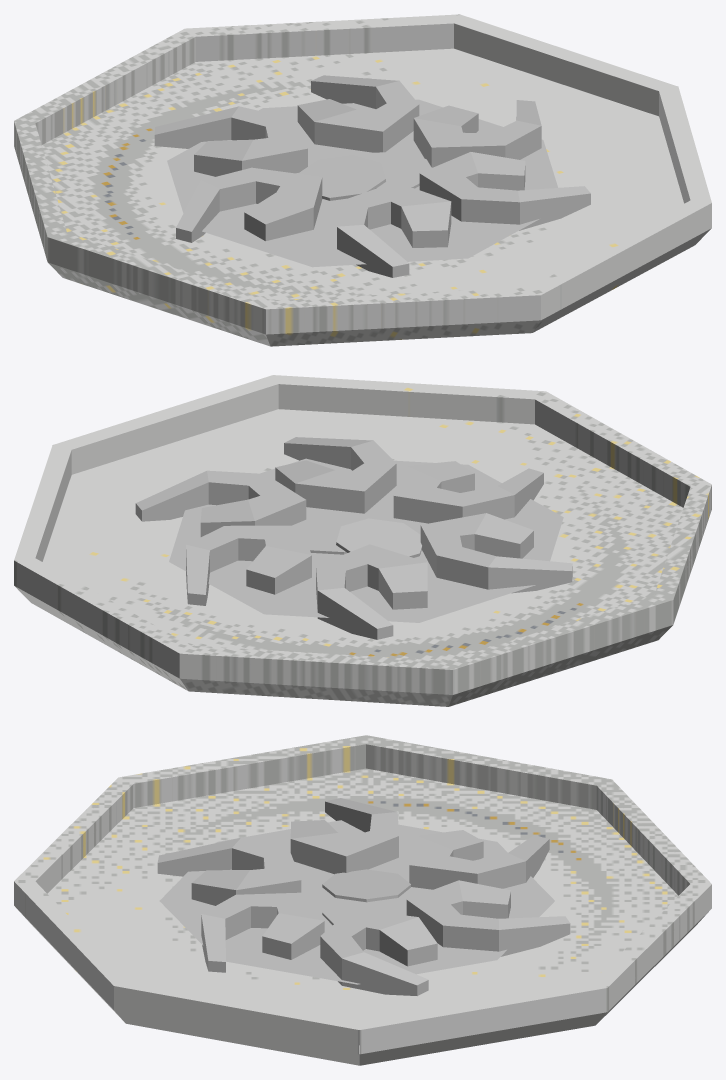
Rendered from SM_ShrimpMarinara.fbx.
3 renders of one model, top to bottom at view 1: azimuth 30°, elevation 25°; view 2: azimuth 150°, elevation 25°; view 3: azimuth 270°, elevation 25°, orthographic. The views are drawn at different scales.
Parts seen in each view (by area): view 1: Plate, Circle, Cube.016, Cube.017, Cube.014, Cube.018, Cube.019, Cube.015, Circle.002, Circle.001; view 2: Plate, Circle, Cube.014, Cube.017, Cube.015, Cube.016, Cube.018, Cube.019, Circle.002, Circle.001; view 3: Plate, Circle, Cube.015, Cube.018, Cube.016, Cube.019, Cube.014, Cube.017, Circle.002, Circle.001.
Part boxes in pixels (left/top/right/bottom): Plate: left=14, top=14, right=711, bottom=346; Circle: left=167, top=99, right=558, bottom=267; Cube.016: left=419, top=152, right=590, bottom=230; Cube.017: left=154, top=106, right=307, bottom=176; Cube.014: left=176, top=167, right=322, bottom=242; Cube.018: left=297, top=75, right=419, bottom=152; Cube.019: left=337, top=182, right=451, bottom=277; Cube.015: left=413, top=100, right=541, bottom=167; Circle.002: left=298, top=155, right=385, bottom=200; Circle.001: left=360, top=151, right=432, bottom=188; Plate: left=14, top=375, right=711, bottom=706; Circle: left=169, top=458, right=563, bottom=622; Cube.014: left=420, top=513, right=572, bottom=593; Cube.017: left=316, top=544, right=427, bottom=639; Cube.015: left=135, top=470, right=306, bottom=536; Cube.016: left=275, top=437, right=396, bottom=513; Cube.018: left=186, top=525, right=311, bottom=605; Cube.019: left=393, top=461, right=543, bottom=523; Circle.002: left=336, top=518, right=422, bottom=557; Circle.001: left=292, top=514, right=361, bottom=554; Plate: left=14, top=735, right=711, bottom=1065; Circle: left=160, top=820, right=554, bottom=984; Cube.015: left=320, top=909, right=437, bottom=995; Cube.018: left=406, top=880, right=570, bottom=956; Cube.016: left=201, top=892, right=324, bottom=972; Cube.019: left=157, top=837, right=301, bottom=905; Cube.014: left=290, top=798, right=398, bottom=874; Cube.017: left=409, top=830, right=549, bottom=889; Circle.002: left=322, top=869, right=410, bottom=902; Circle.001: left=322, top=898, right=406, bottom=925.
Bounding box in the file's own units: 0.6452 × 0.0467 × 0.6452.
